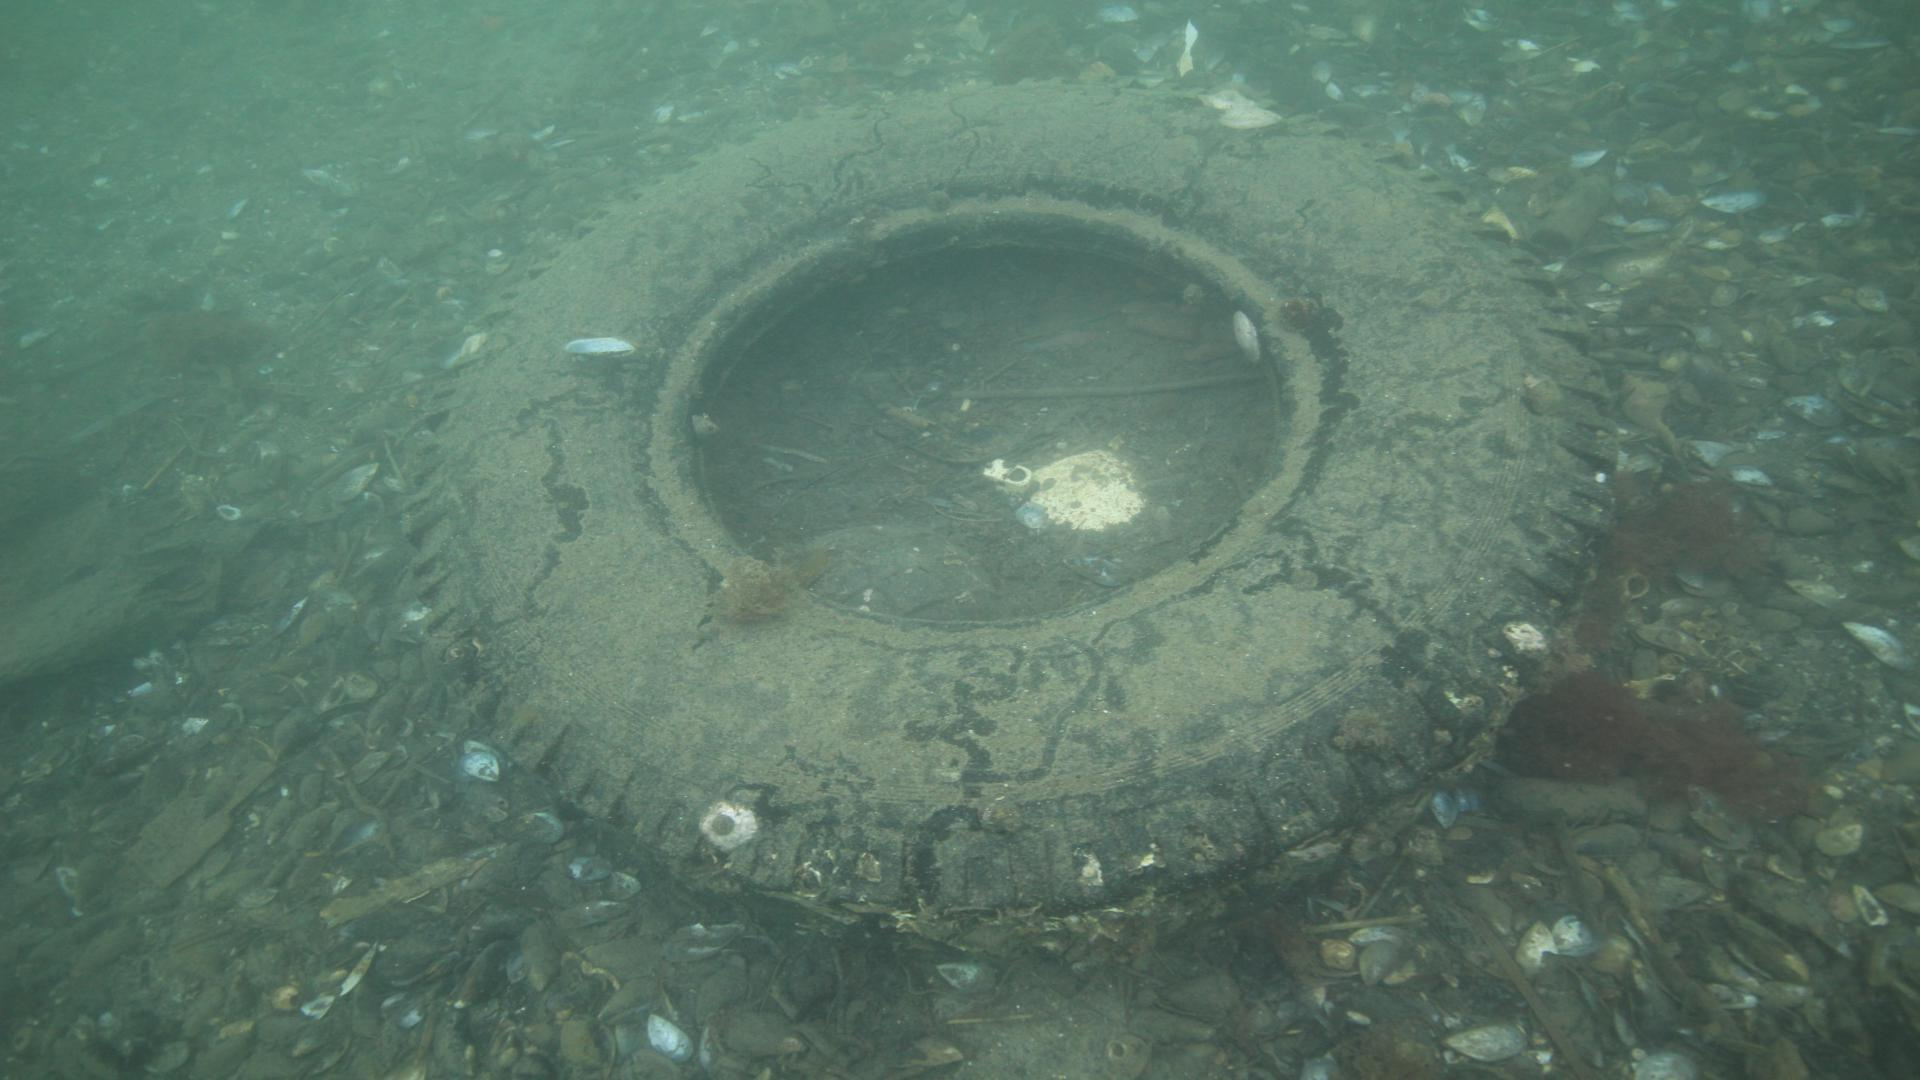tire: (400, 78, 1623, 968)
